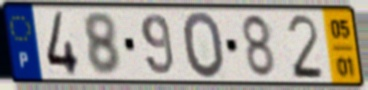2: (285, 13, 326, 81)
4: (44, 9, 82, 79)
8: (81, 9, 124, 79), (240, 12, 280, 80)
9: (138, 12, 176, 78)
O: (180, 10, 227, 82)
